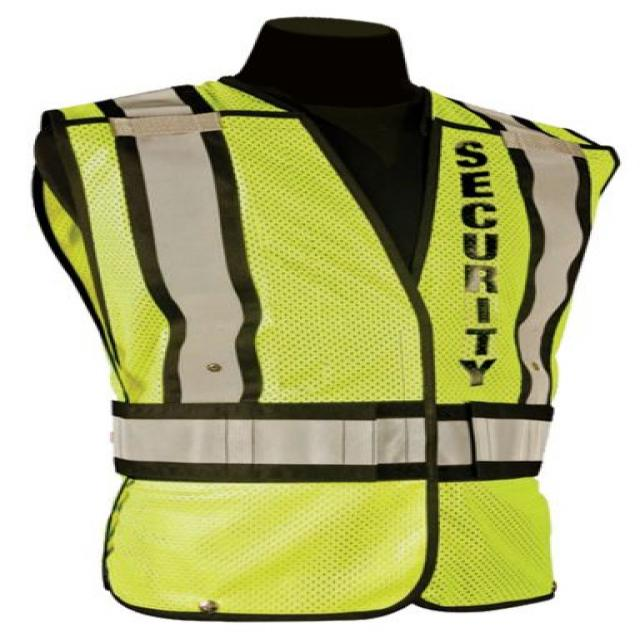Reflective-Jacket: (1, 40, 640, 637)
